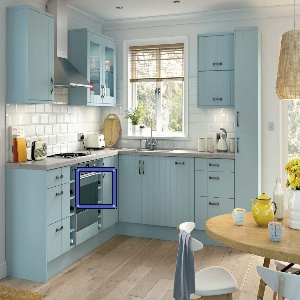square: (74, 165, 118, 210)
